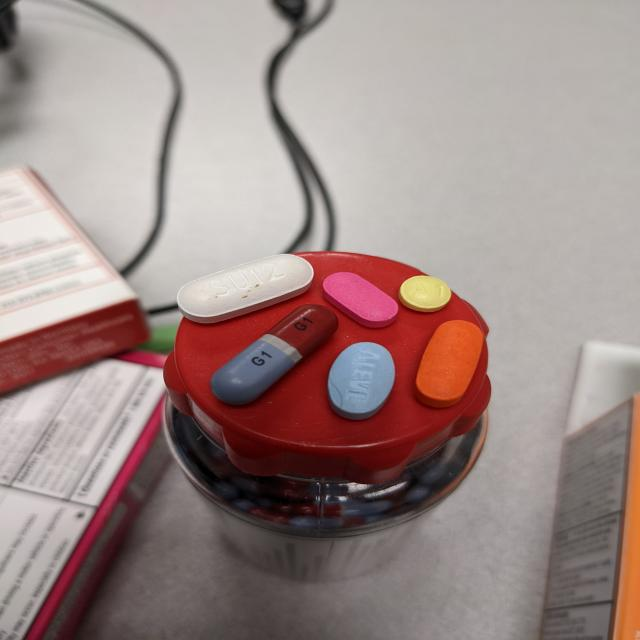non-organic waste: (209, 302, 339, 406), (175, 253, 315, 326), (411, 318, 485, 410), (326, 340, 398, 422), (321, 270, 400, 329), (397, 274, 453, 314)
